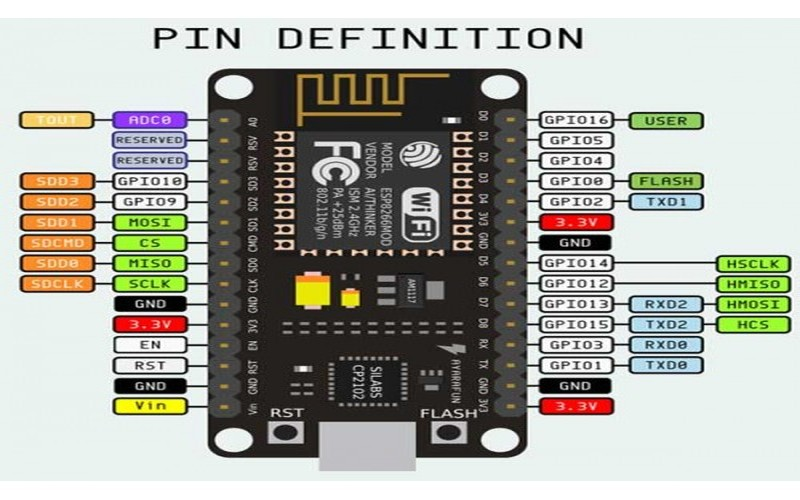IoT Sensor: (197, 60, 537, 474)
